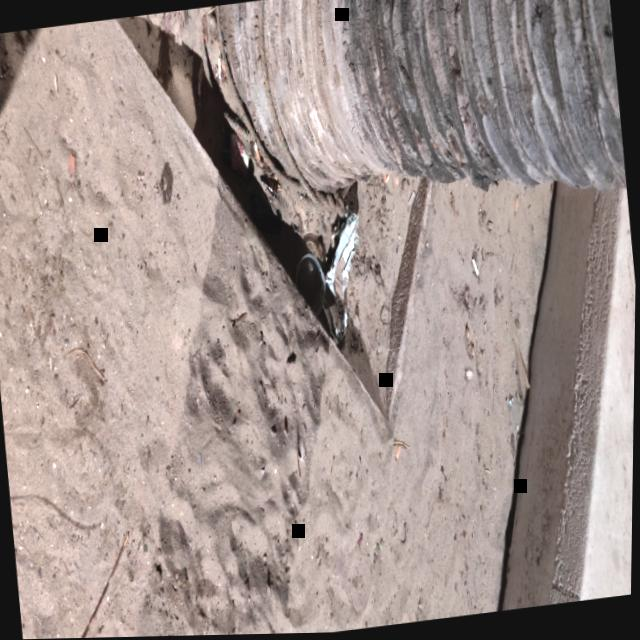Cigarette: (472, 256, 479, 276), (254, 141, 260, 160), (396, 447, 402, 460)
Glass bottle: (226, 133, 278, 198)
Other plastic: (324, 209, 359, 344)
Plastic lid: (296, 253, 326, 316)
Unlabeled litter: (509, 399, 514, 408)
